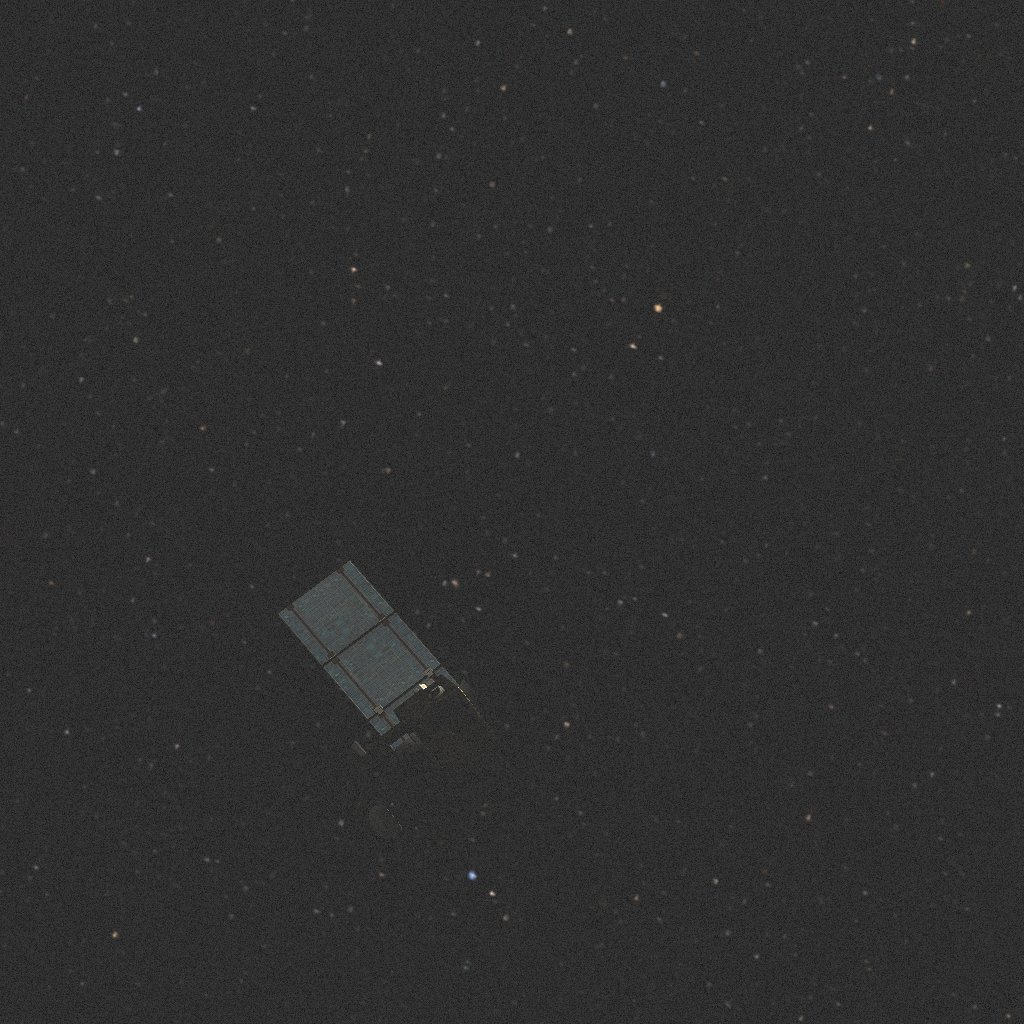earth_observation_sat_1: (279, 561, 521, 840)
